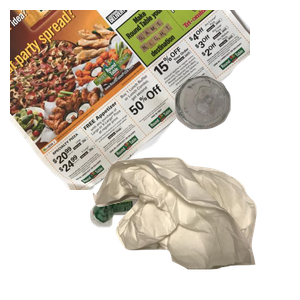glass: (172, 73, 300, 195)
paper: (10, 10, 250, 190)
plastic: (88, 182, 242, 300)
trash: (90, 155, 300, 300)
